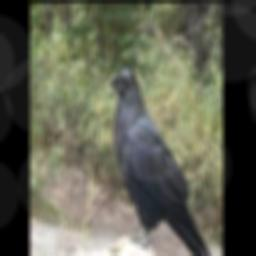Crow: (108, 67, 211, 256)
